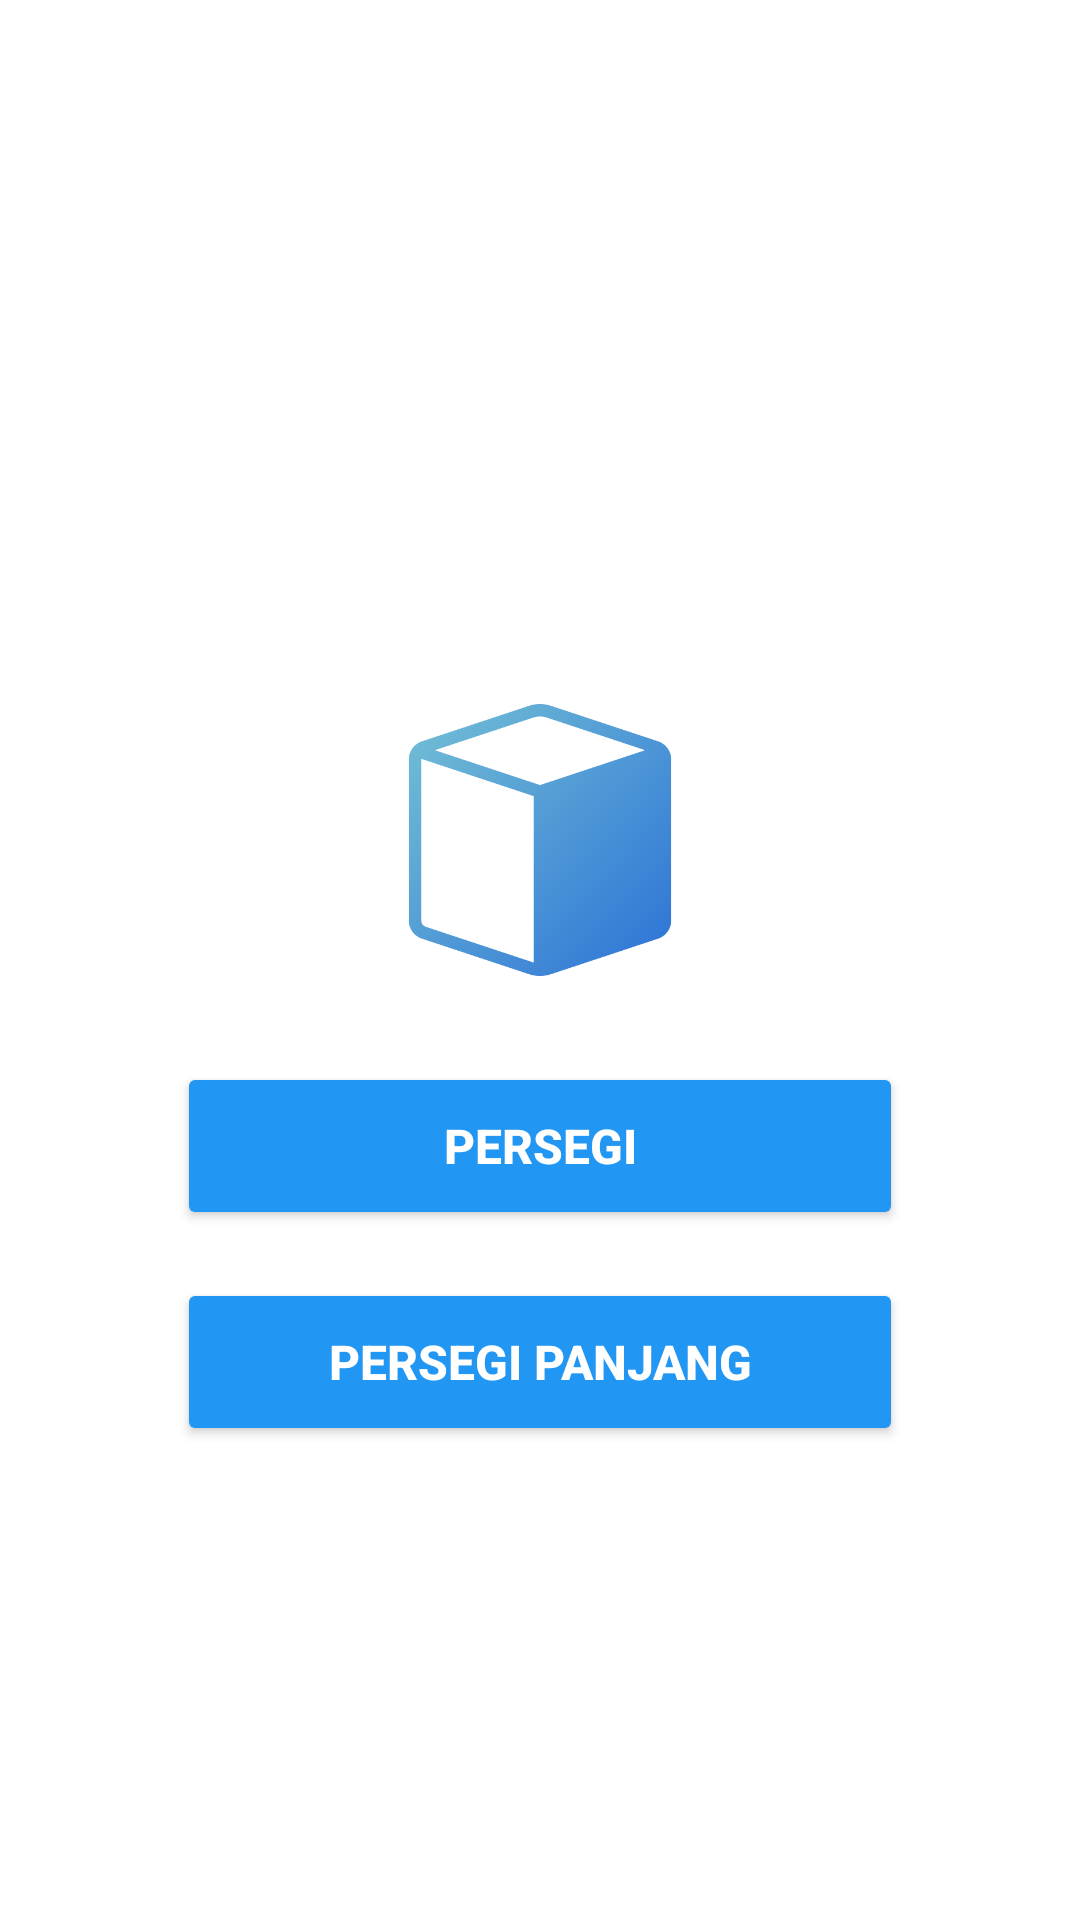

Named icons in this screenshot (1080 × 1920) and their bounding boxes, (x1, y1, x2, y2):
cube: (409, 704, 671, 976)
